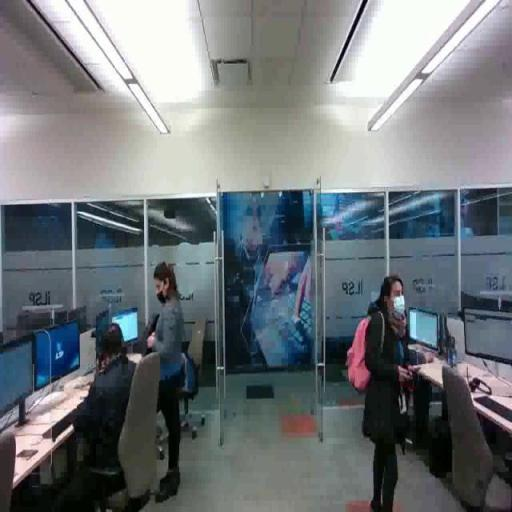person: (38, 312, 135, 504), (352, 271, 425, 512), (147, 262, 188, 506)
